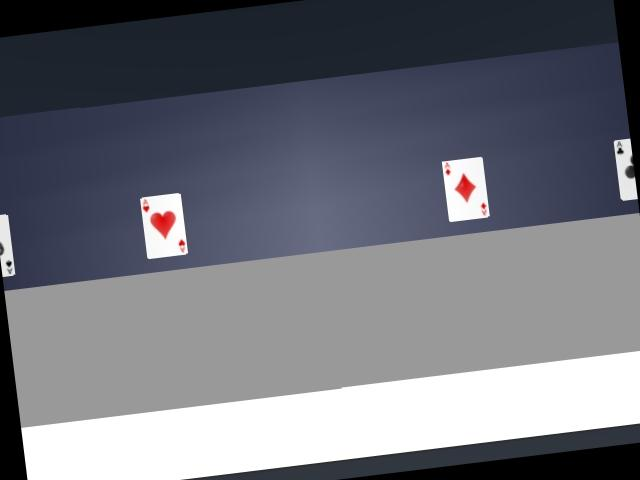club: (0, 214, 15, 276)
diamond: (442, 156, 491, 222)
heart: (140, 193, 187, 258)
